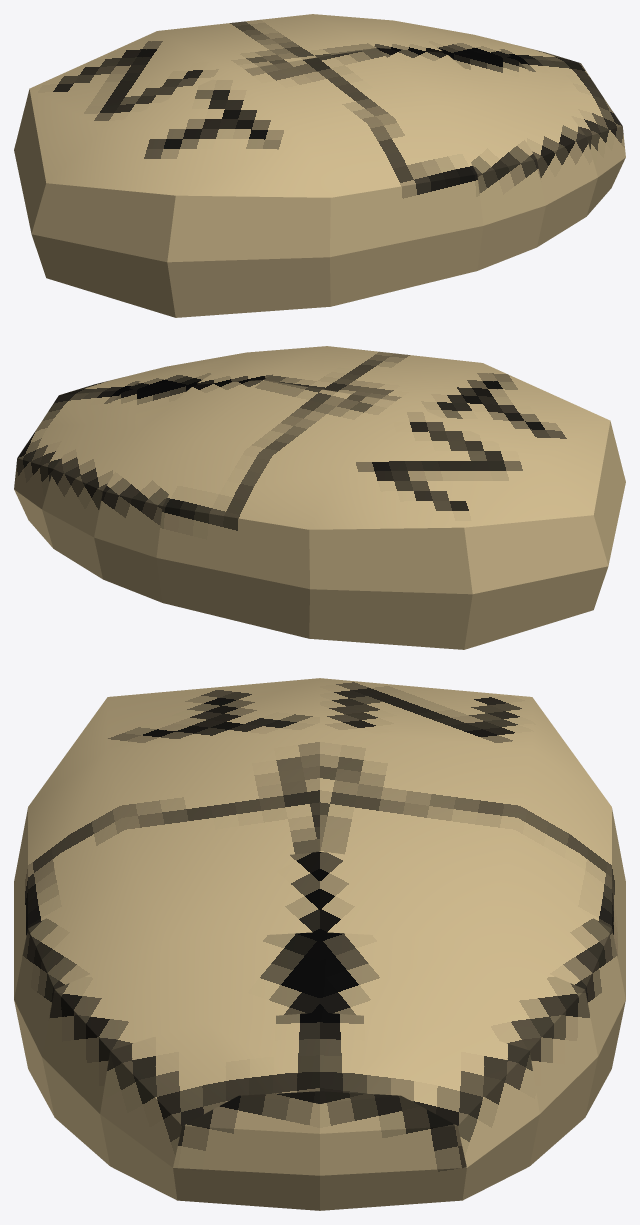
File: arvutihiir.glb
3 views of the same model, one above another, from view 1: azimuth 30°, elevation 25°; view 2: azimuth 150°, elevation 25°; view 3: azimuth 270°, elevation 25° (orthographic). The views are drawn at different scales.
Visible parts, largest first — view 1: Mouse; view 2: Mouse; view 3: Mouse.
Boxes of the visible parts, <box> form: Mouse: <box>14,14,625,317</box>; Mouse: <box>14,346,625,649</box>; Mouse: <box>14,678,625,1210</box>.
Bounding box in the file's own units: 0.0927 × 0.0258 × 0.061.
1 material, 1 textured.
